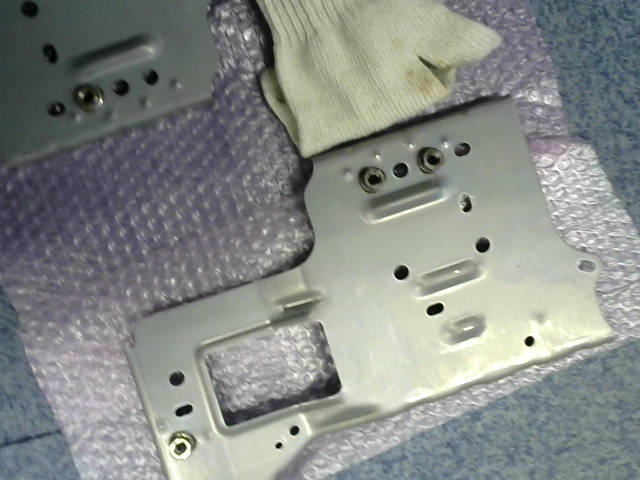dog: (73, 85, 104, 114), (358, 165, 386, 196), (166, 432, 195, 460), (416, 147, 445, 175)
